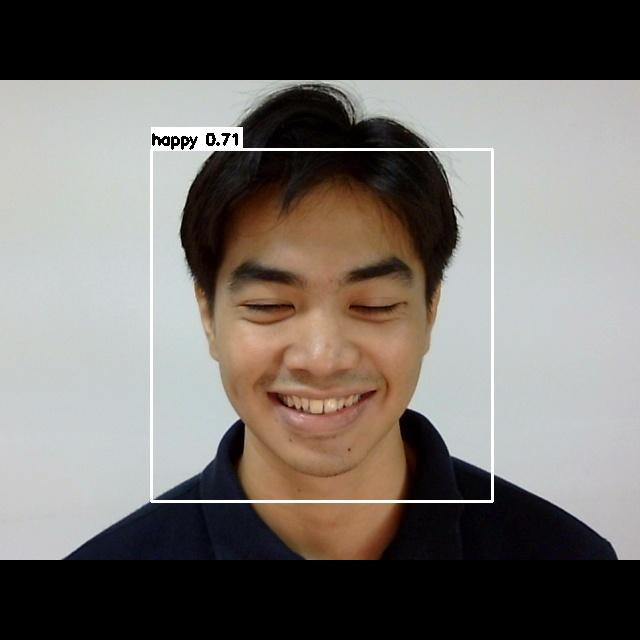Happy: (210, 238, 434, 452)
